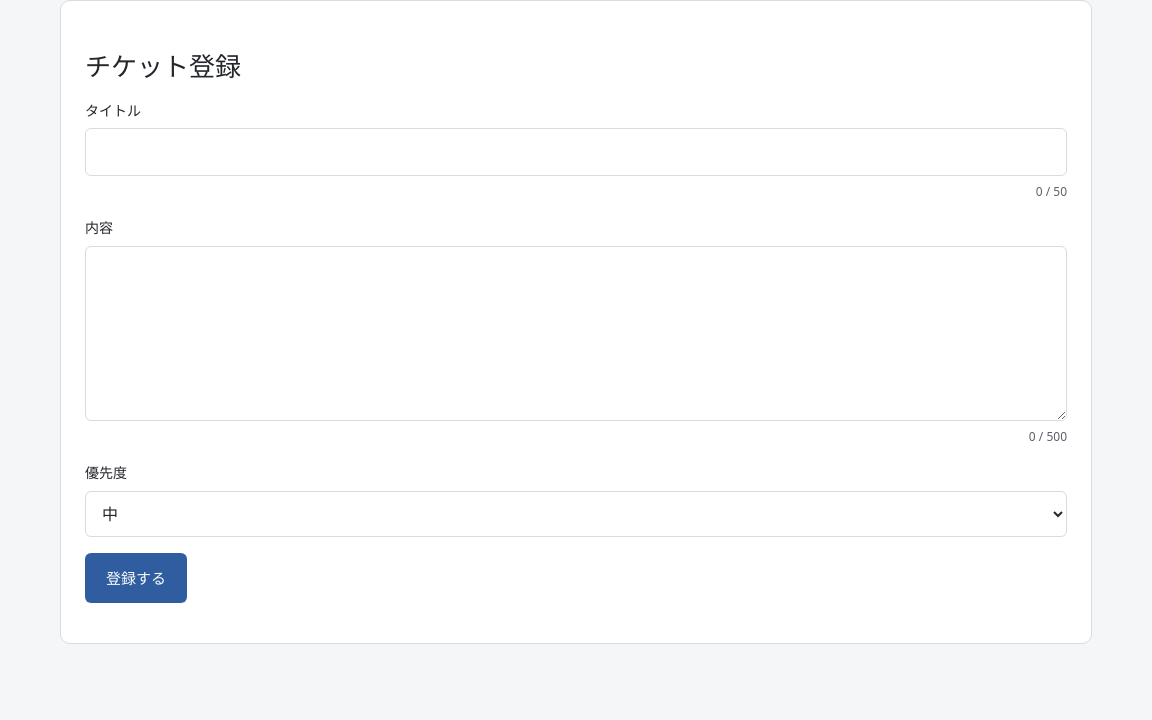
Test: TicketCreatePage › タイトルが空欄の場合はタイトル用のメッセージを表示しAPIを呼ばない
The image size is (1152, 720).
Expected: the button "登録する" is enabled, [85,553,187,603]
Type "内容だけ入力" into the text box labelled "内容". click: (576, 334)
box: [85,246,1067,421]
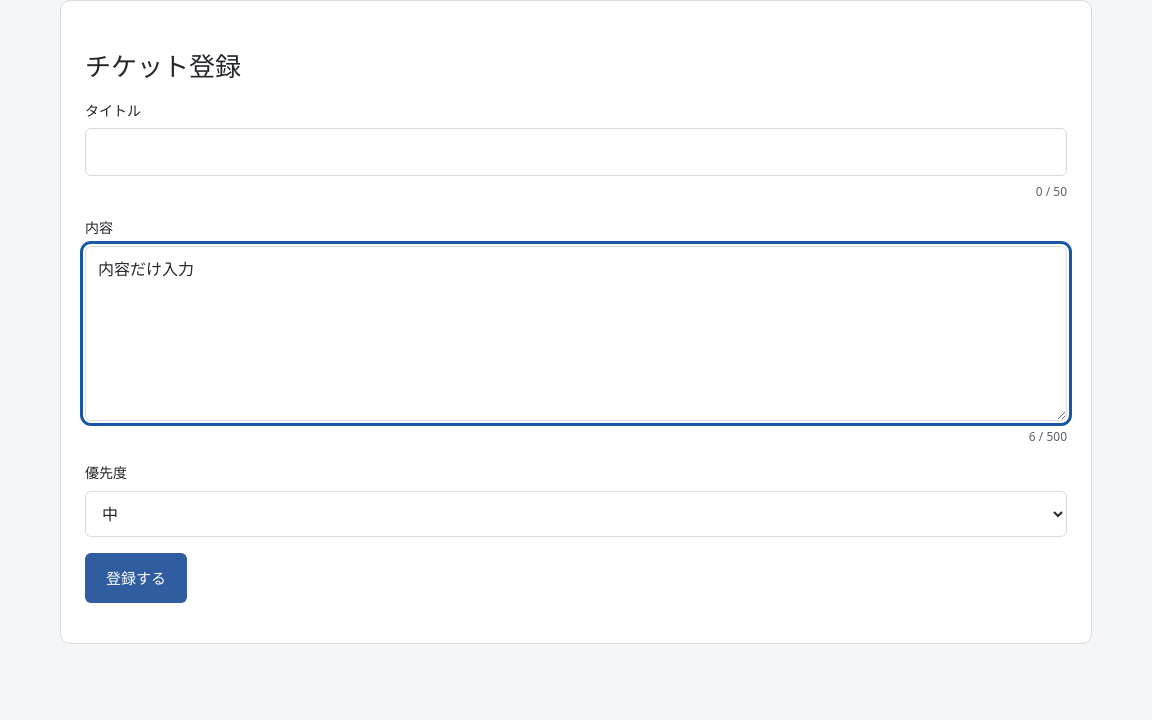
Click the button "登録する". click: (136, 578)
box: [85,553,187,603]
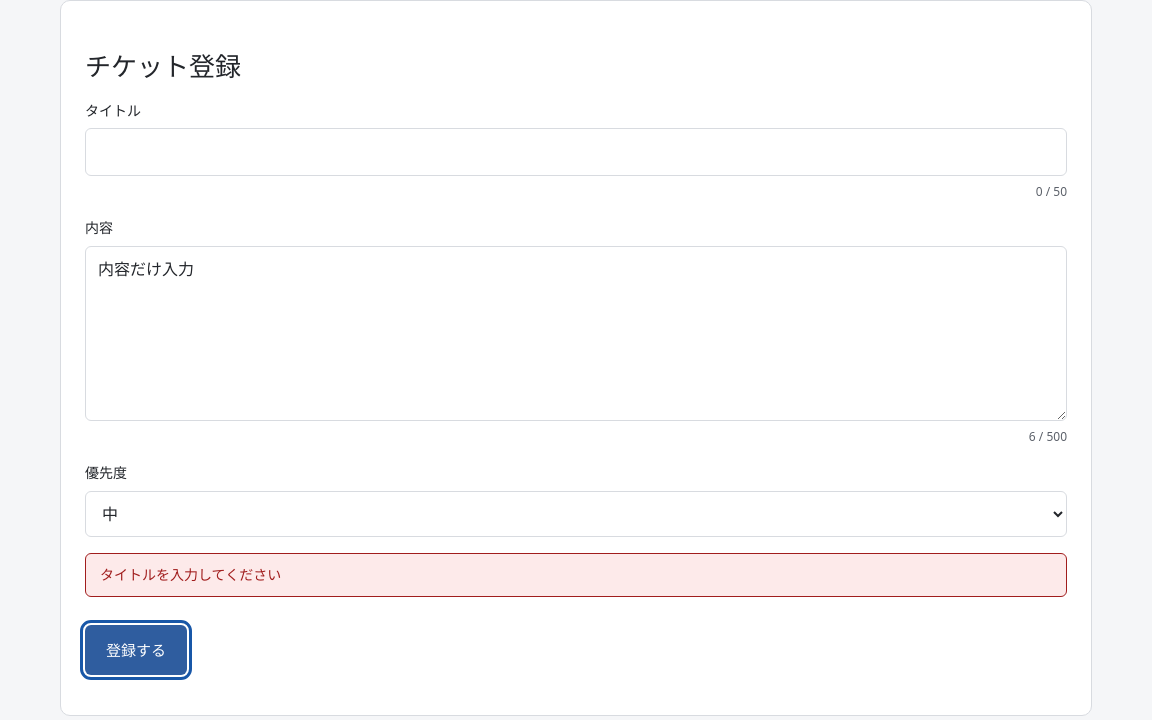
Expected: the message reads "タイトルを入力してください", [100,565,281,584]
